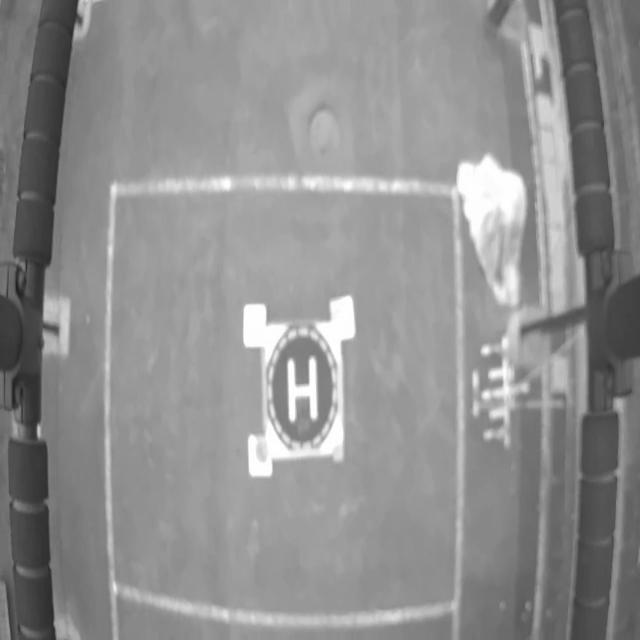Helipad: (287, 353, 319, 423)
